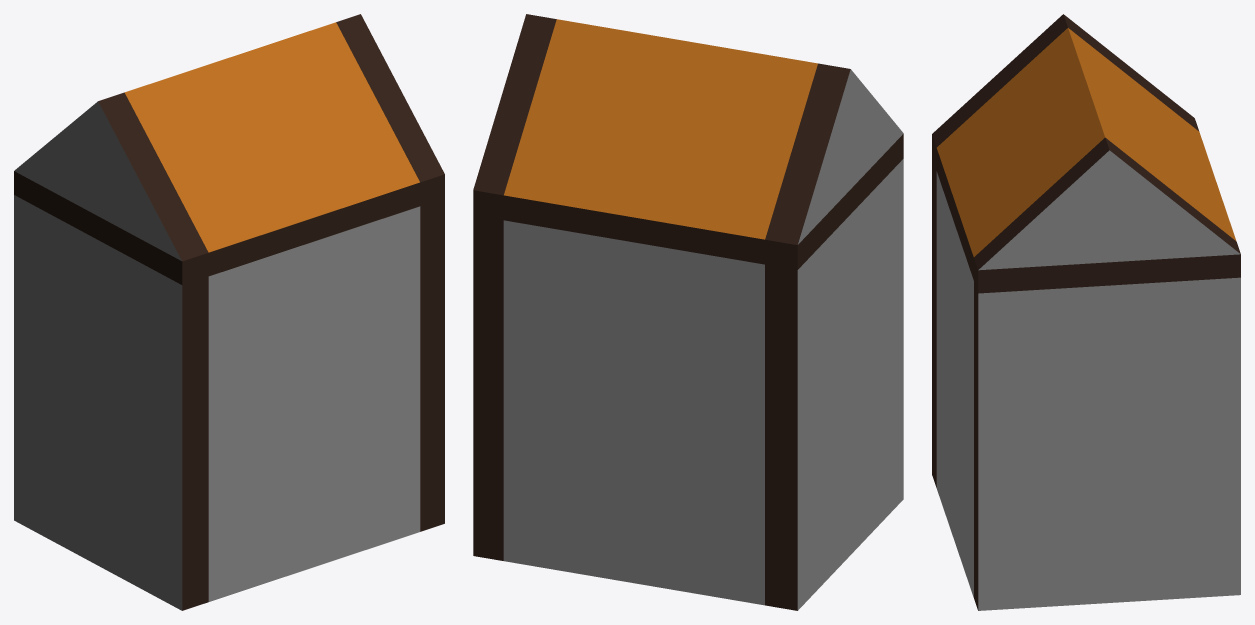
Rendered from SM_TileP3SmallBuilding.fbx.
The picture shows the model from 3 angles, left to right: view 1: azimuth 30°, elevation 25°; view 2: azimuth 150°, elevation 25°; view 3: azimuth 270°, elevation 25°; orthographic projection. The views are drawn at different scales.
Parts seen in each view (by area): view 1: TileP3SmallBuilding; view 2: TileP3SmallBuilding; view 3: TileP3SmallBuilding.
Boxes of the visible parts, x1,y1,x2,y2 form: TileP3SmallBuilding: (14,14,444,610); TileP3SmallBuilding: (473,14,903,610); TileP3SmallBuilding: (932,14,1240,610).
Bounding box in the file's own units: 84.38 × 117 × 72.41.
